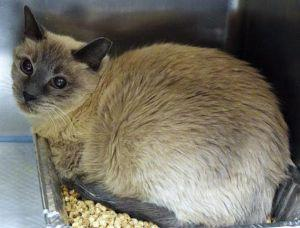siamese: (4, 4, 121, 128)
